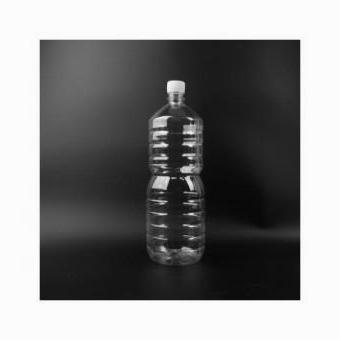bottle: (138, 76, 208, 270)
